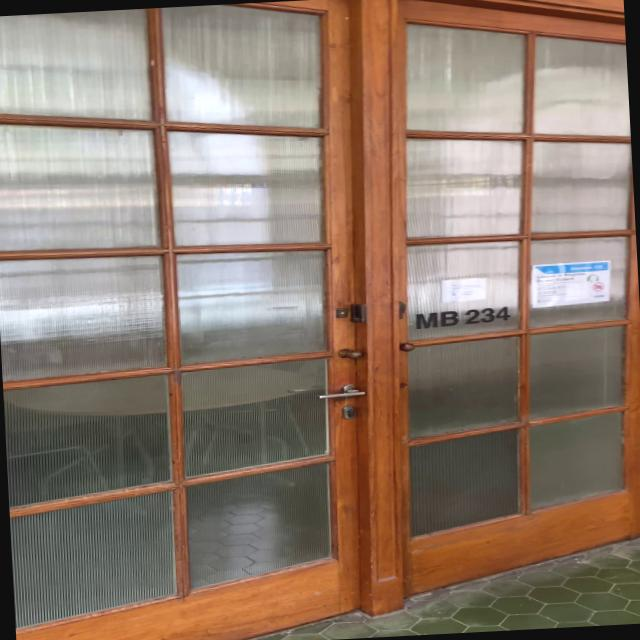room234Window: (410, 302, 518, 332)
